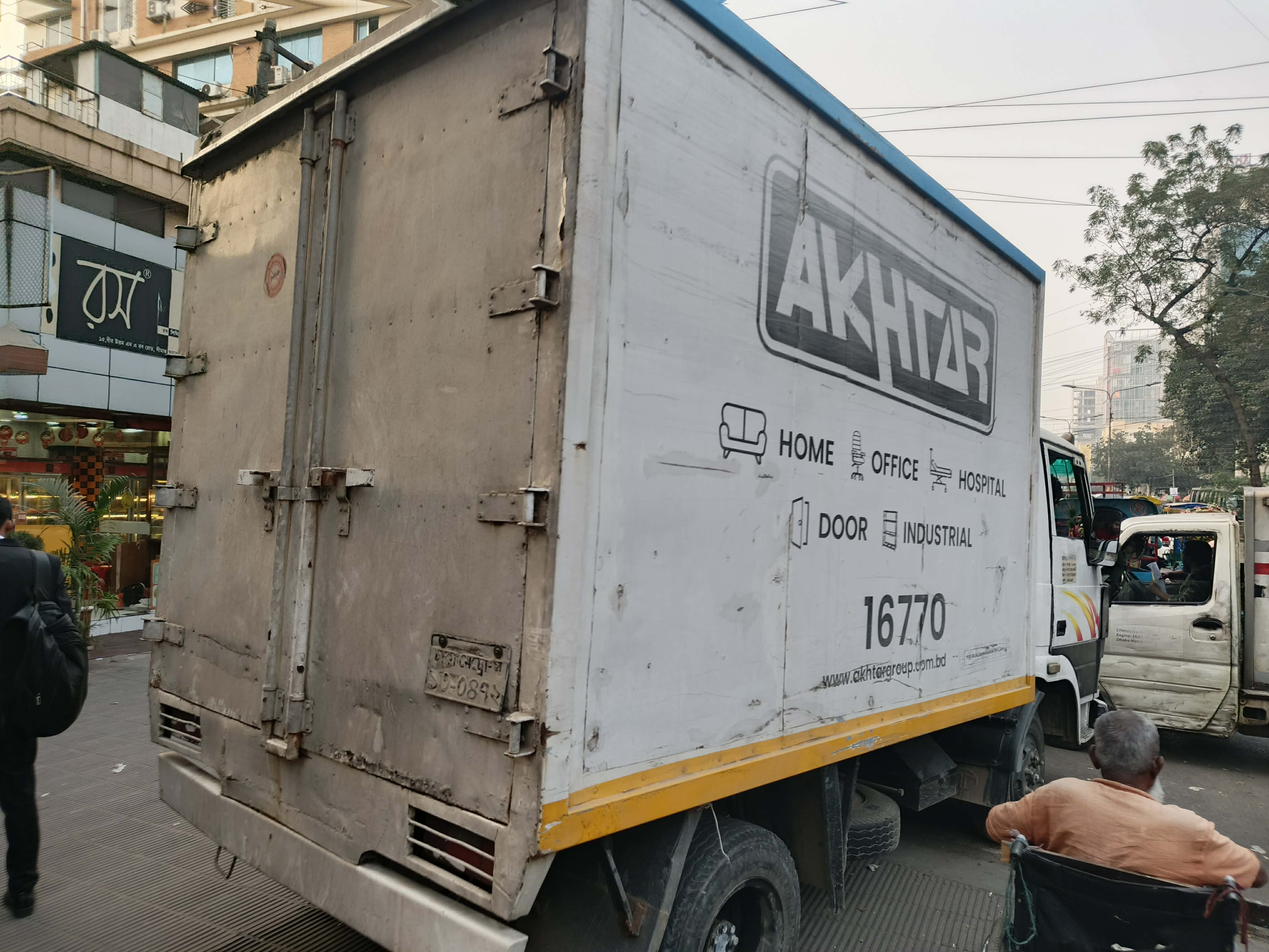Pickup: (159, 0, 1269, 939)
